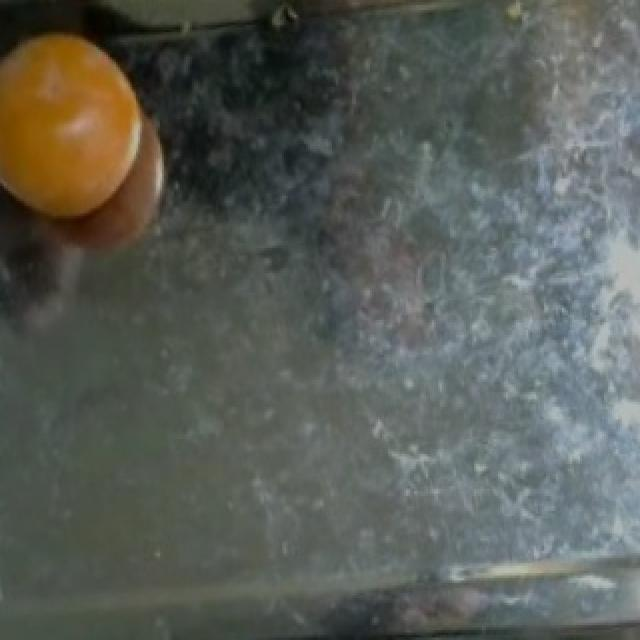Fruit: (2, 15, 176, 243)
